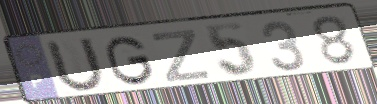3: (260, 19, 307, 72)
5: (200, 21, 261, 79)
8: (310, 14, 356, 66)
G: (104, 34, 157, 88)
U: (42, 36, 107, 95)
Z: (149, 27, 212, 84)
